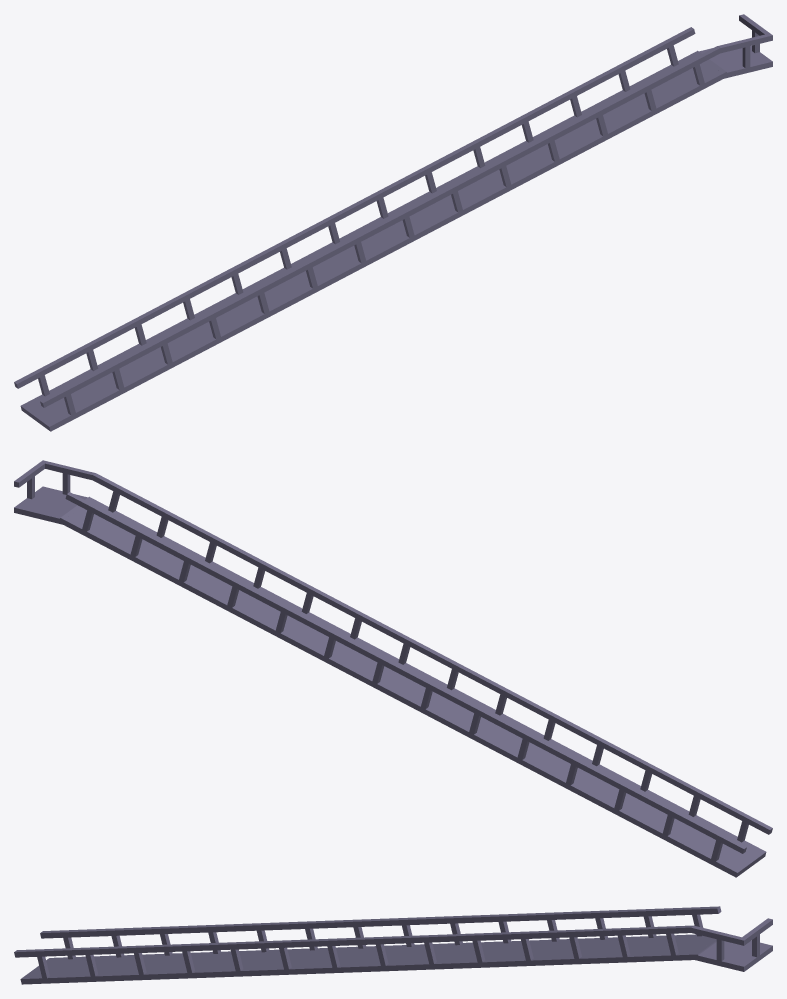
File: staircase 15.fbx
3 views of the same model, one above another, from view 1: azimuth 30°, elevation 25°; view 2: azimuth 150°, elevation 25°; view 3: azimuth 330°, elevation 25° (orthographic).
Visible parts, largest first — view 1: Staircase, Cube; view 2: Staircase, Cube; view 3: Staircase, Cube.
Boxes of the visible parts, x1,y1,x2,y2 form: Staircase: (14,27,726,431); Cube: (699,14,772,78); Staircase: (59,473,772,877); Cube: (14,460,94,524); Staircase: (14,906,721,984); Cube: (691,918,772,971).
Size of the model in its own units: 200 by 2915 by 841.
